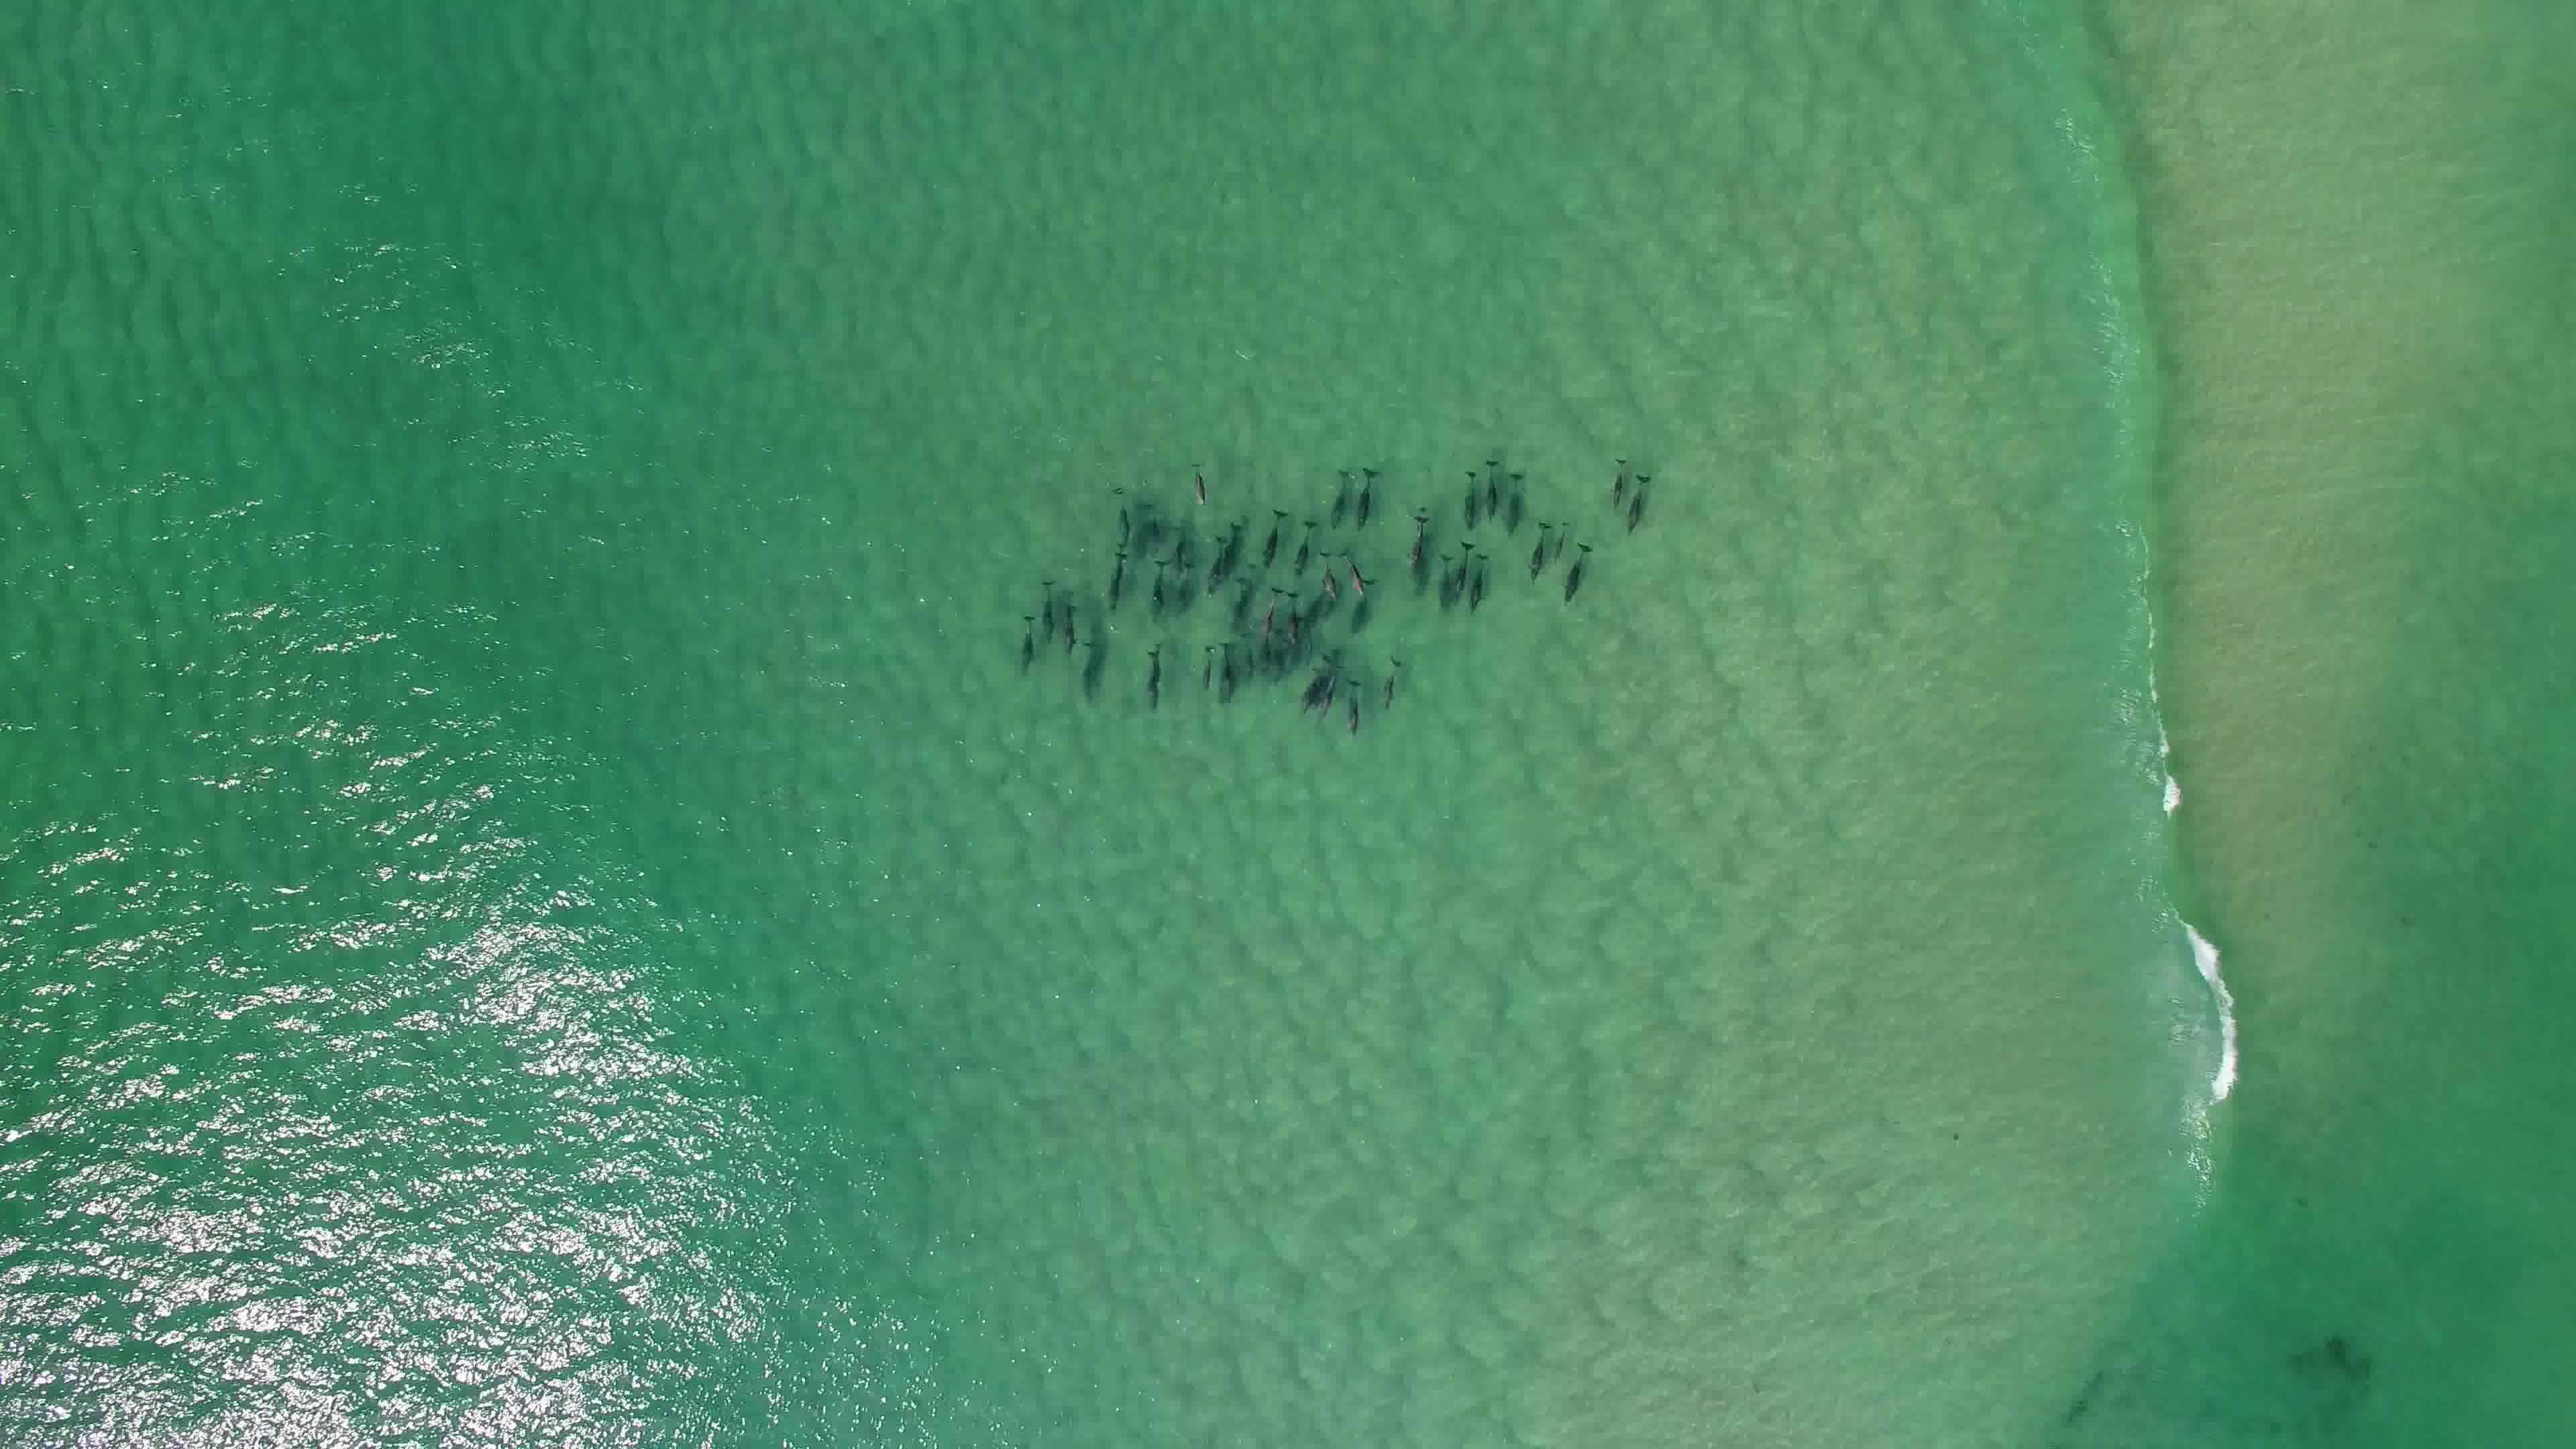dolphin: (1336, 669, 1378, 755), (1557, 525, 1596, 614), (1132, 637, 1175, 711), (1368, 648, 1414, 713), (1522, 513, 1560, 589), (1463, 541, 1502, 612), (1350, 455, 1382, 540), (1399, 502, 1433, 582), (1339, 543, 1380, 607), (1286, 506, 1323, 575), (1472, 453, 1504, 531), (1208, 517, 1244, 586), (1256, 502, 1292, 568), (1502, 458, 1530, 540), (1320, 462, 1352, 533), (1451, 460, 1481, 534), (1624, 456, 1649, 545), (1444, 536, 1479, 596), (1253, 580, 1281, 655), (1007, 609, 1040, 671), (1031, 568, 1062, 637), (1311, 545, 1343, 609), (1146, 550, 1180, 607), (1215, 635, 1238, 717), (1106, 538, 1132, 607), (1605, 442, 1629, 515), (1281, 584, 1306, 651), (1108, 483, 1136, 541), (1297, 656, 1325, 713), (1182, 453, 1208, 508), (1139, 492, 1166, 547), (1318, 663, 1346, 711), (1056, 594, 1079, 649), (1550, 515, 1571, 563), (1194, 642, 1215, 686)
